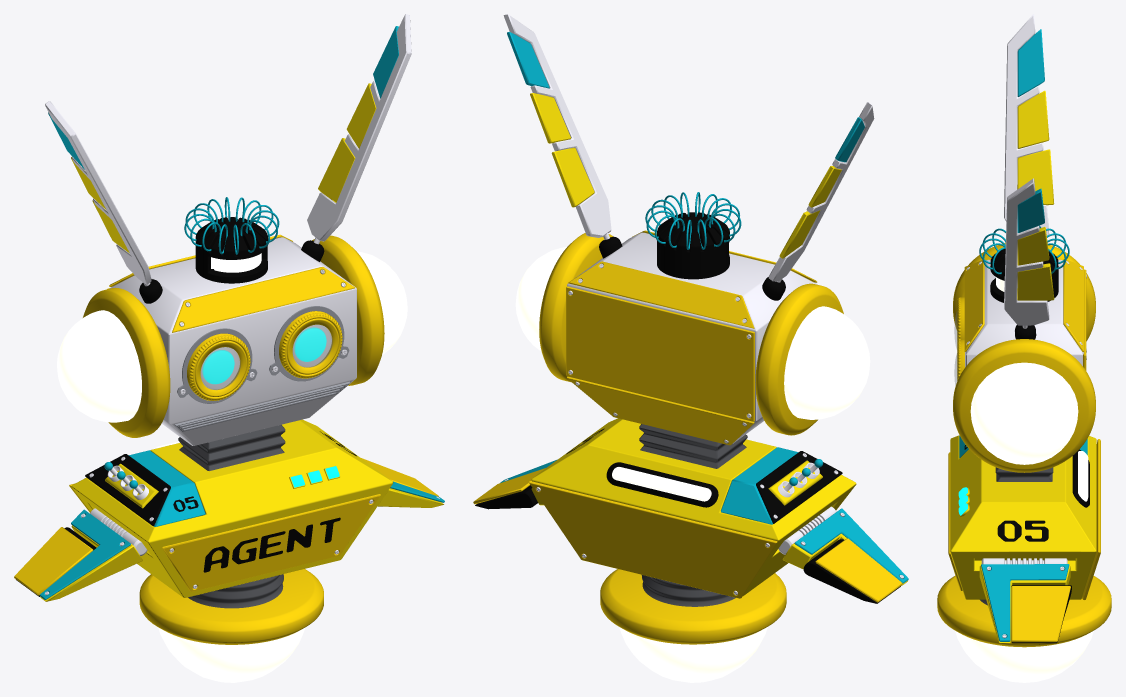
Rendered from bee_bot7_yellow_3.glb.
3 views of the same model, side by side, from view 1: azimuth 30°, elevation 25°; view 2: azimuth 150°, elevation 25°; view 3: azimuth 270°, elevation 25° (orthographic). The views are drawn at different scales.
Parts seen in each view (by area): view 1: Cube.486; view 2: Cube.486; view 3: Cube.486.
Boxes of the visible parts, left/top/right/bottom form: Cube.486: left=14, top=14, right=444, bottom=682; Cube.486: left=473, top=14, right=908, bottom=682; Cube.486: left=937, top=14, right=1111, bottom=682.
Size of the model in its own units: 0.6985 by 1.02 by 0.278.
